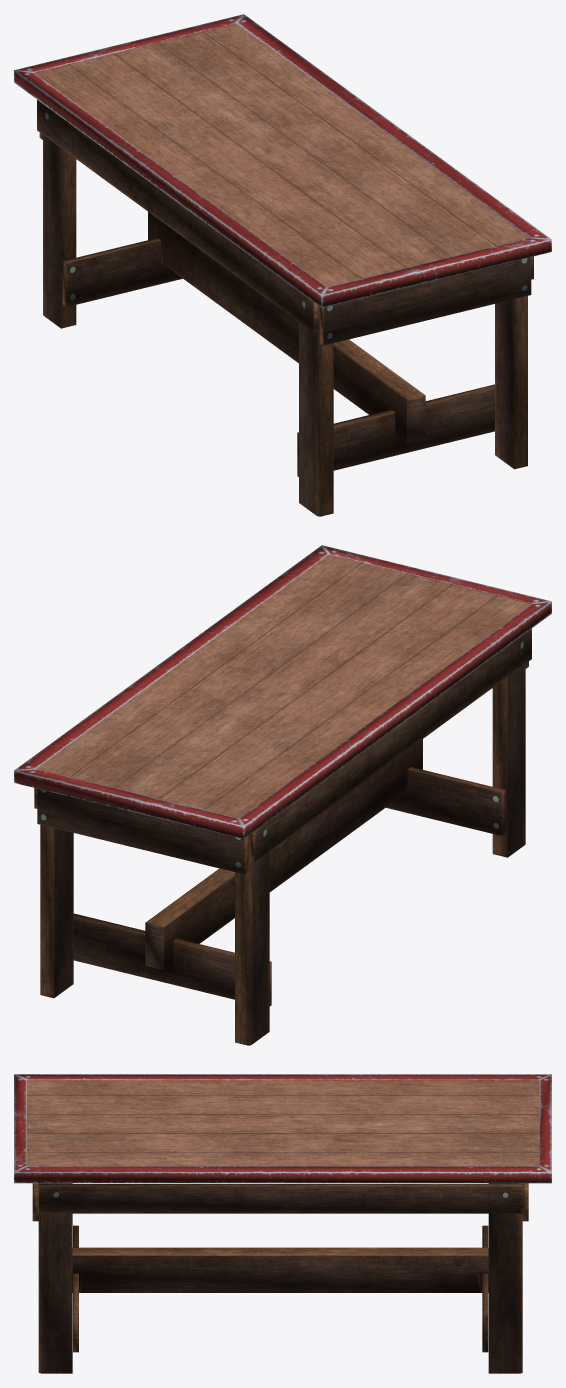
Rendered from wooden_work_tablelowpoly.glb.
3 renders of one model, top to bottom at view 1: azimuth 30°, elevation 25°; view 2: azimuth 150°, elevation 25°; view 3: azimuth 270°, elevation 25°, orthographic. The views are drawn at different scales.
Parts seen in each view (by area): view 1: TableRab; view 2: TableRab; view 3: TableRab.
Part boxes in pixels (bbox=[...]): TableRab: bbox=[14, 14, 551, 516]; TableRab: bbox=[14, 545, 551, 1045]; TableRab: bbox=[14, 1074, 551, 1373].
Size of the model in its own units: 0.8626 by 0.8401 by 2.
Materials: 1 (1 with a texture image).
